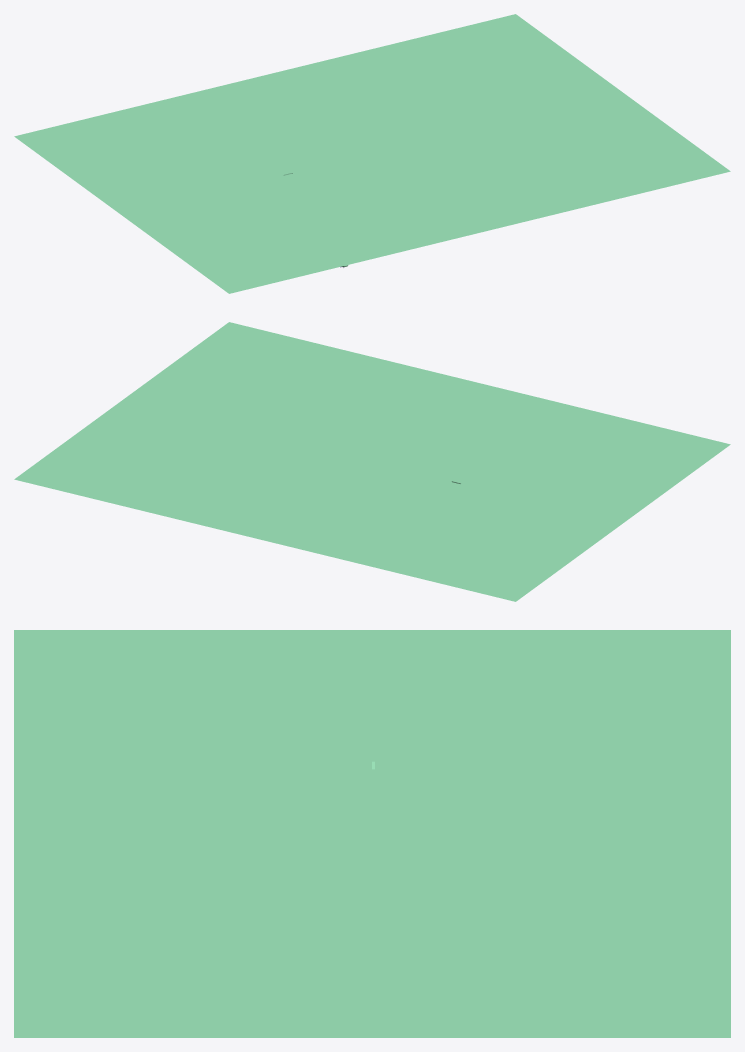
File: level02.46579f34.obj
The picture shows the model from 3 angles, top to bottom: view 1: azimuth 30°, elevation 25°; view 2: azimuth 150°, elevation 25°; view 3: azimuth 270°, elevation 25°; orthographic projection. The views are drawn at different scales.
Parts seen in each view (by area): view 1: level_020_001; view 2: level_020_001; view 3: level_020_001.
Boxes of the visible parts, left/top/right/bottom form: level_020_001: left=14, top=14, right=730, bottom=293; level_020_001: left=14, top=322, right=730, bottom=601; level_020_001: left=14, top=630, right=730, bottom=1037.
Bounding box in the file's own units: 11430 × 2215 × 8489.
